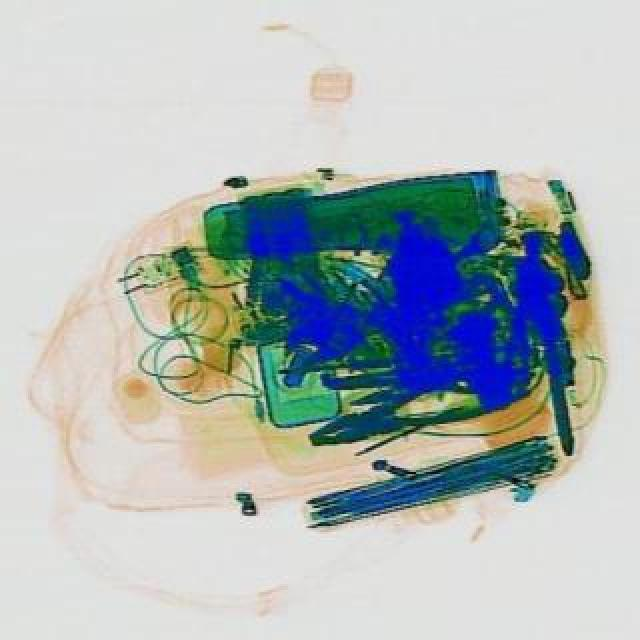wrench: (298, 352, 532, 464)
